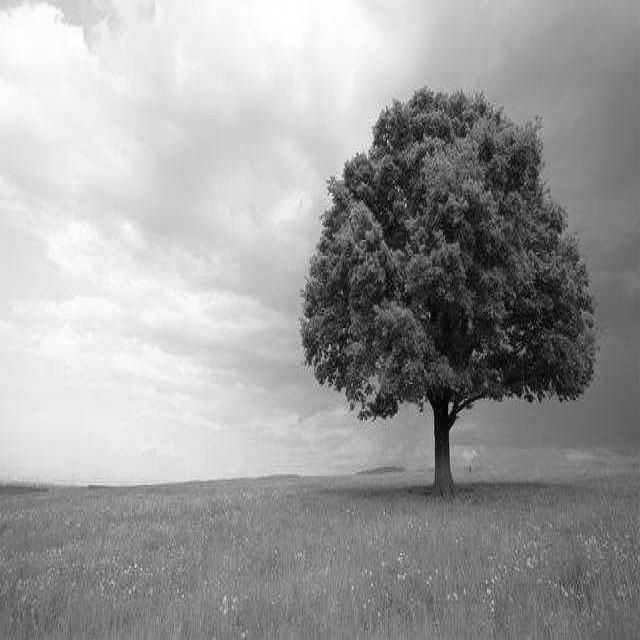Tree: (300, 88, 598, 495)
